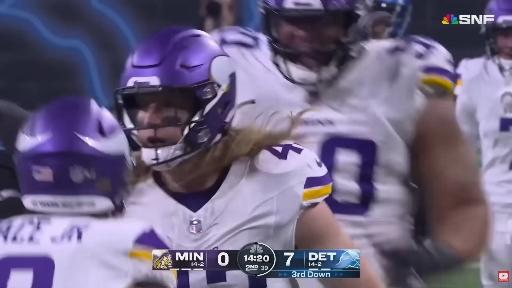Helmet: (115, 27, 235, 170), (15, 97, 131, 214), (262, 0, 358, 85), (483, 0, 511, 55), (372, 0, 411, 37)
Jersey: (294, 37, 456, 248), (126, 142, 331, 249), (0, 215, 176, 287), (456, 57, 511, 206), (211, 27, 309, 108)
Player: (214, 0, 487, 276), (116, 27, 351, 249), (0, 97, 176, 287), (456, 0, 511, 287), (0, 100, 29, 219)
